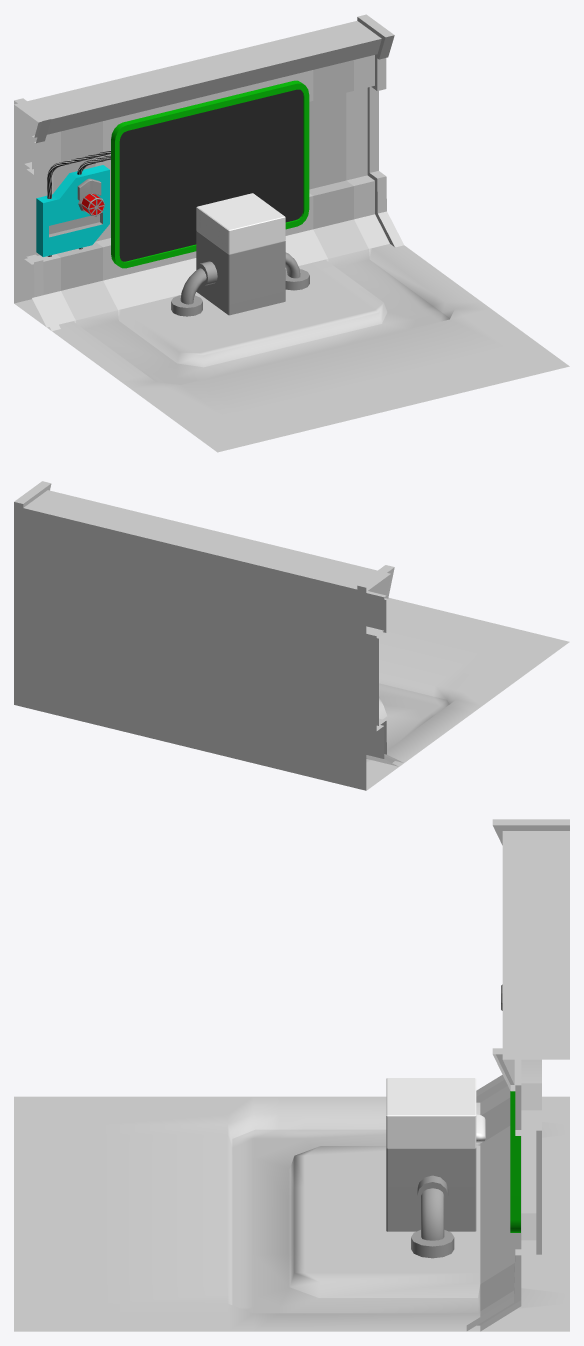
Rendered from selfDestructButton.fbx.
3 views of the same model, one above another, from view 1: azimuth 30°, elevation 25°; view 2: azimuth 150°, elevation 25°; view 3: azimuth 270°, elevation 25° (orthographic). The views are drawn at different scales.
Visible parts, largest first — view 1: floortile, monitor, stand, panel1, casing1, foot, foot1; view 2: floortile; view 3: floortile, casing1, stand, foot1, monitor.
Boxes of the visible parts, x1,y1,x2,y2 form: floortile: [14, 14, 569, 452]; monitor: [111, 80, 309, 268]; stand: [196, 231, 285, 315]; panel1: [36, 165, 109, 256]; casing1: [196, 193, 285, 254]; foot: [171, 261, 217, 316]; foot1: [285, 252, 309, 290]; floortile: [14, 481, 569, 790]; floortile: [14, 819, 569, 1331]; casing1: [386, 1078, 485, 1147]; stand: [386, 1148, 476, 1231]; foot1: [411, 1175, 454, 1258]; monitor: [510, 1091, 520, 1232].
Bounding box in the file's own units: 6 × 3.47 × 6.
